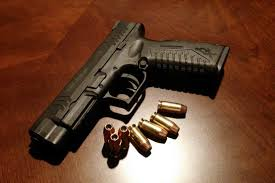gun: (24, 18, 240, 165)
